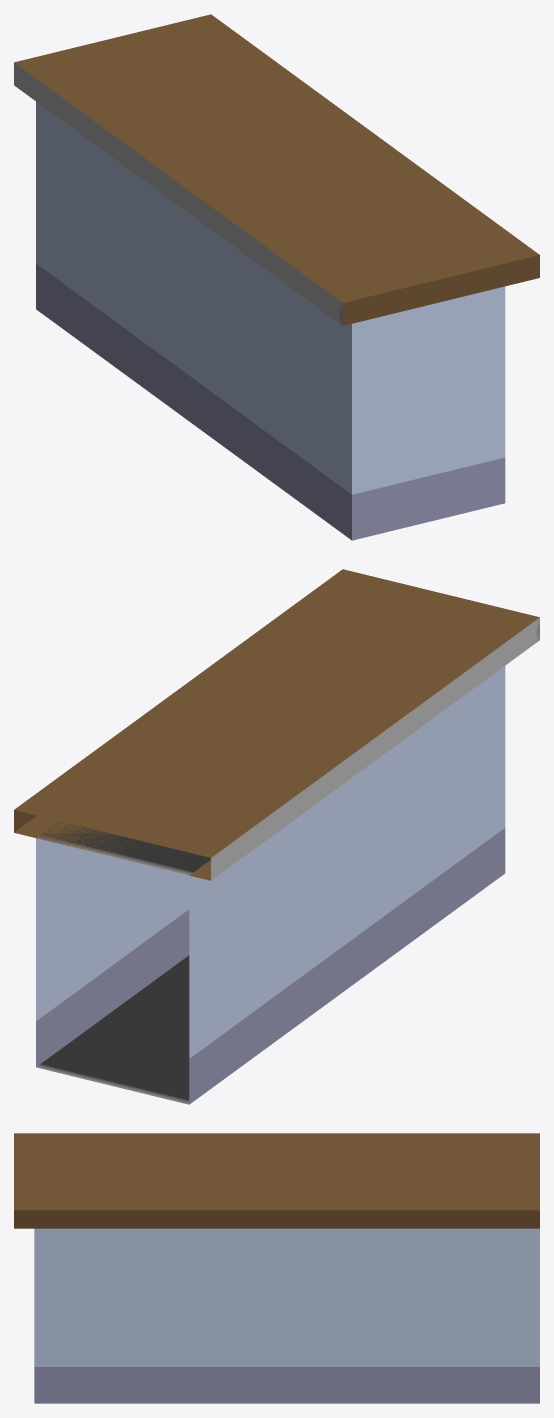
File: C_kitchen_counter.fbx
3 renders of one model, top to bottom at view 1: azimuth 30°, elevation 25°; view 2: azimuth 150°, elevation 25°; view 3: azimuth 270°, elevation 25°, orthographic. The views are drawn at different scales.
Visible parts, largest first — view 1: C_kitchen_counter; view 2: C_kitchen_counter; view 3: C_kitchen_counter.
Boxes of the visible parts, x1,y1,x2,y2 form: C_kitchen_counter: (14, 14, 539, 540); C_kitchen_counter: (14, 569, 539, 1104); C_kitchen_counter: (14, 1133, 539, 1403).
Bounding box in the file's own units: 0.9 × 2.6 × 1.1.
